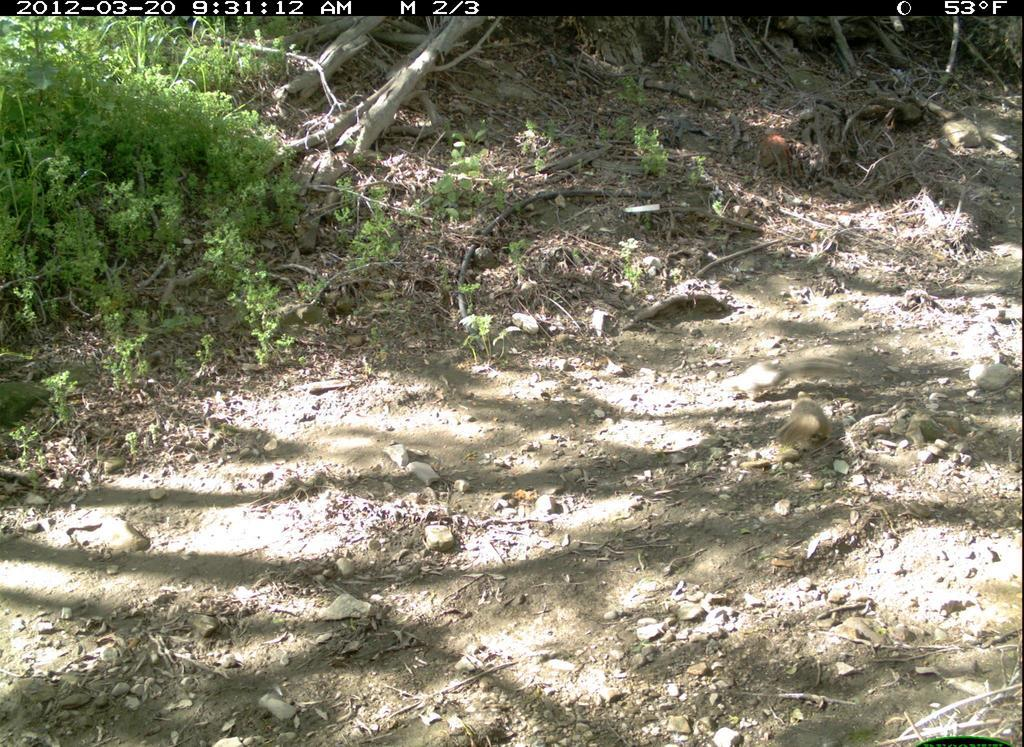squirrel: (761, 376, 838, 510)
